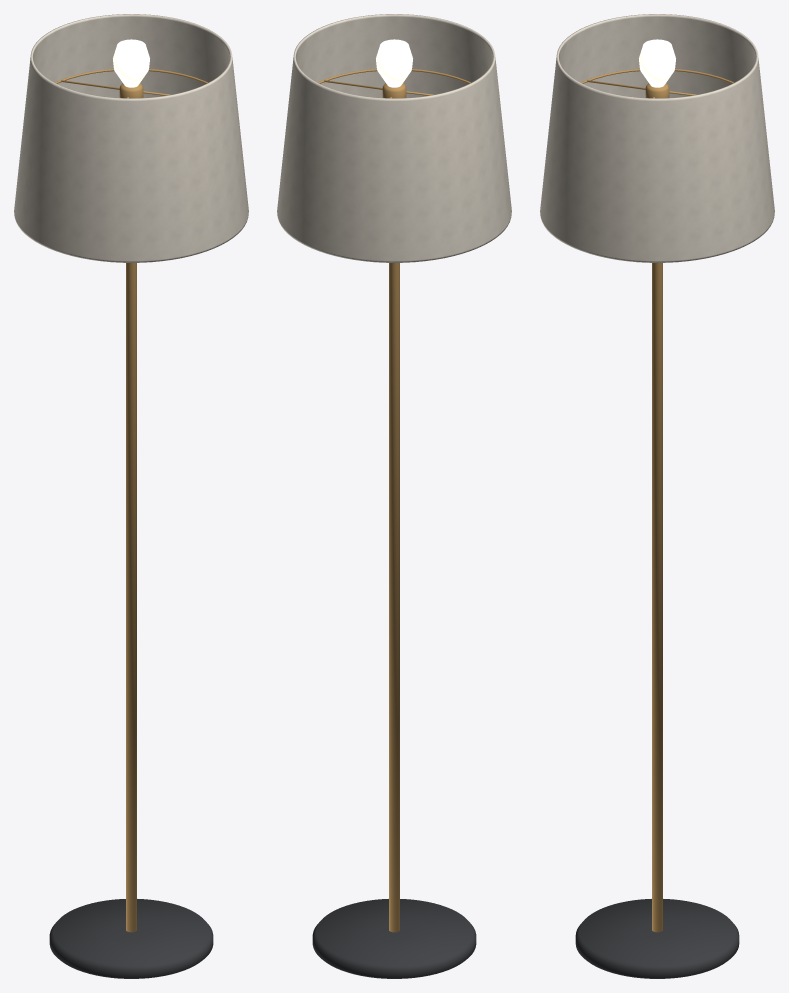
3 views of the same model, side by side, from view 1: azimuth 30°, elevation 25°; view 2: azimuth 150°, elevation 25°; view 3: azimuth 270°, elevation 25° (orthographic).
Visible parts, largest first — view 1: shade, base, stem, bulb; view 2: shade, base, stem, bulb; view 3: shade, base, stem, bulb.
Boxes of the visible parts, x1=… form: shade: x1=14, y1=14, x2=248, y2=262; base: x1=49, y1=899, x2=213, y2=978; stem: x1=126, y1=263, x2=136, y2=932; bulb: x1=113, y1=39, x2=149, y2=87; shade: x1=277, y1=14, x2=511, y2=262; base: x1=312, y1=899, x2=476, y2=978; stem: x1=389, y1=263, x2=399, y2=932; bulb: x1=376, y1=39, x2=412, y2=87; shade: x1=540, y1=14, x2=774, y2=262; base: x1=575, y1=899, x2=739, y2=978; stem: x1=652, y1=263, x2=662, y2=932; bulb: x1=639, y1=39, x2=675, y2=87.
Bounding box in the file's own units: 0.4 × 1.7 × 0.4.
4 materials, 1 textured.
